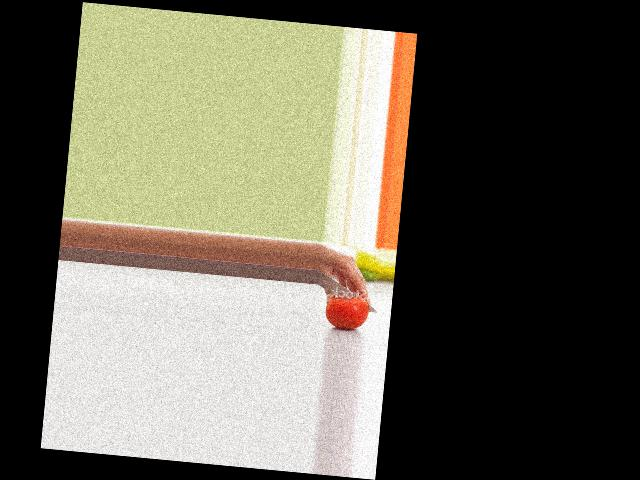tomato: (323, 294, 369, 331)
